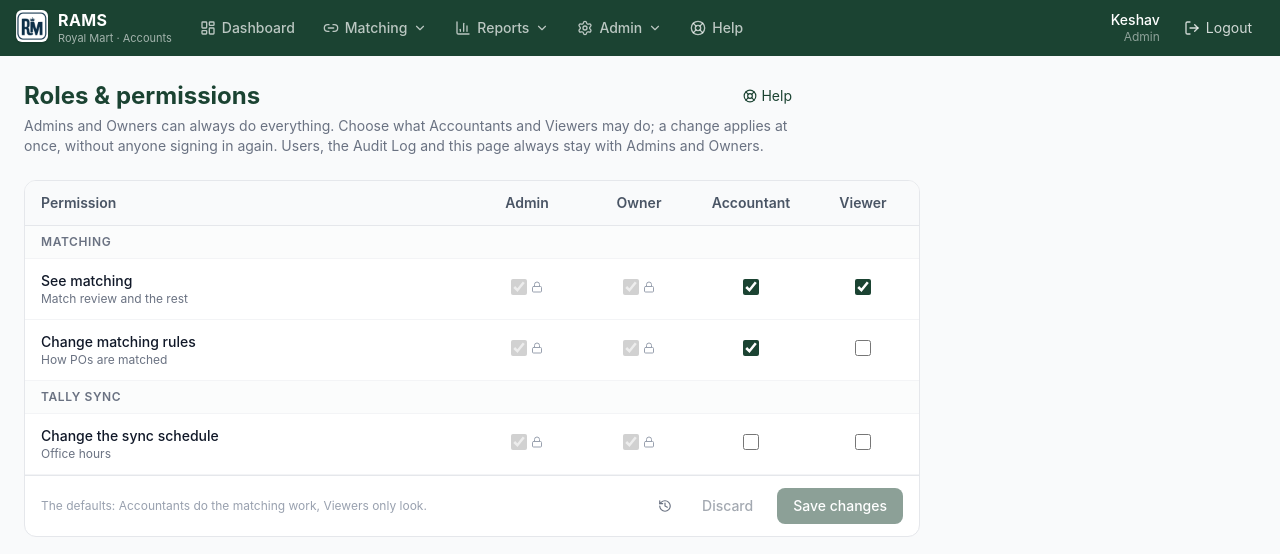
Roles & permissions › Admin and Owner are always ticked and locked; ticking a box and saving sends the new matrix
This screenshot has width=1280, height=554.
Expected: the text "Change the sync schedule" is shown, 41,427 -> 219,444
Expected: the checkbox named "Admin: See matching (always)" is disabled, 511,278 -> 527,294
Click the checkbox named "Accountant: Change the sync schedule".
click(751, 442)  # box 743,434 -> 759,450
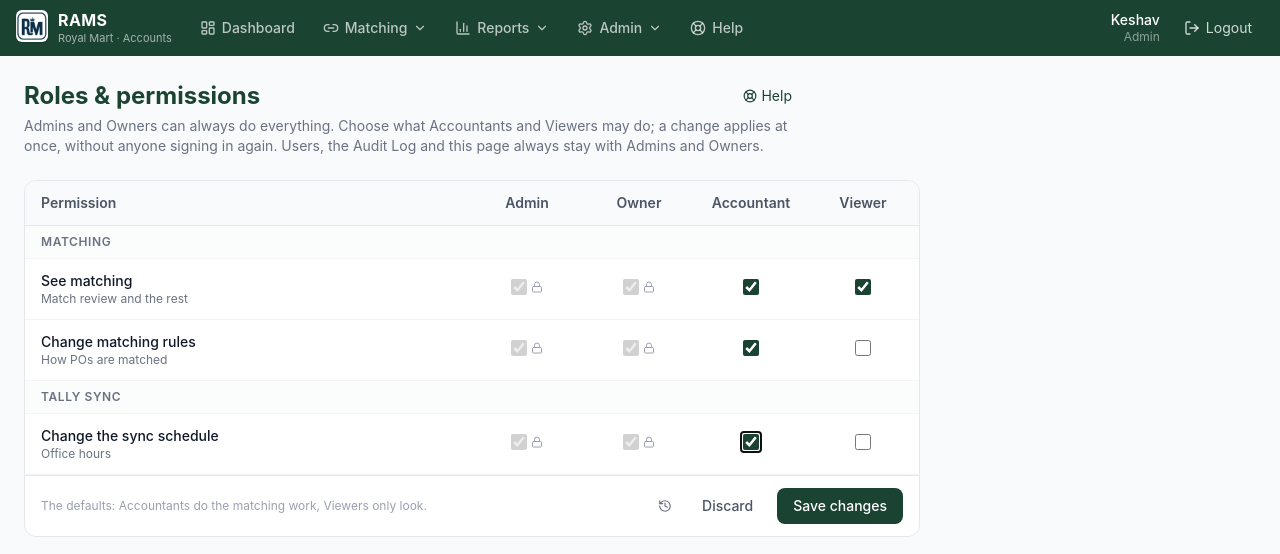
Click the checkbox named "Viewer: See matching".
click(863, 286)  # box 855,278 -> 871,294
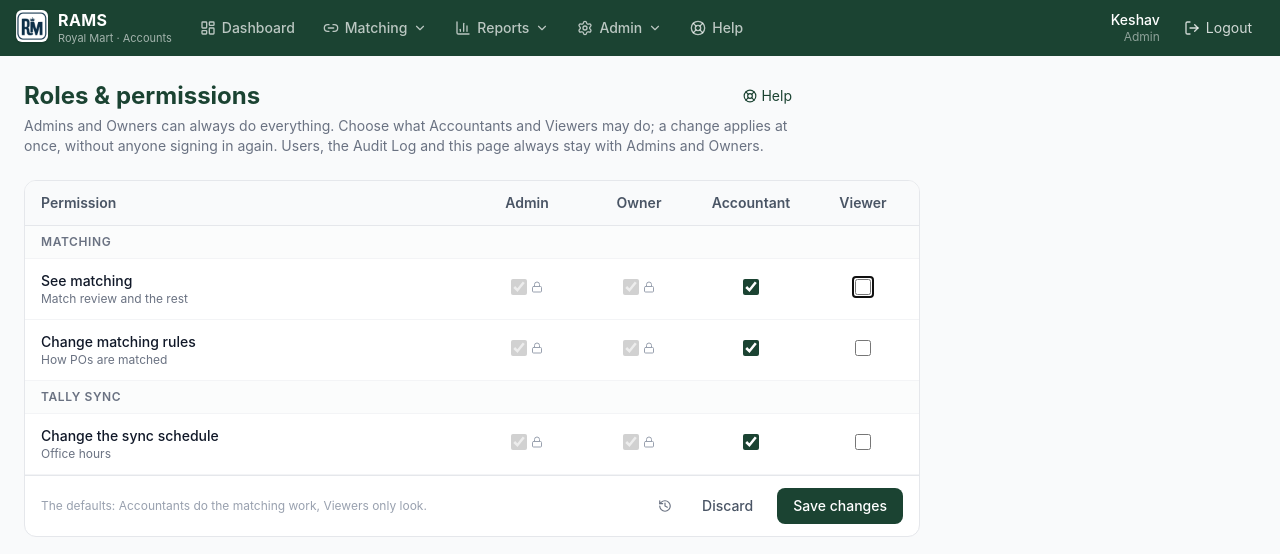
Click the button "Save changes".
click(840, 506)  # box 777,488 -> 903,524
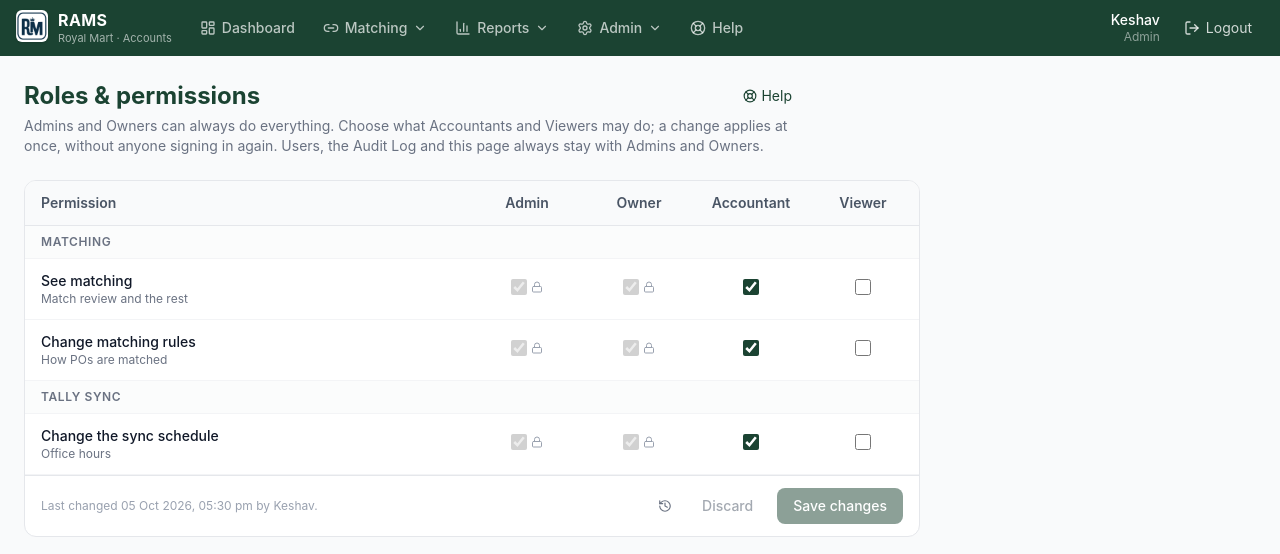
Now the text "Last changed 05 Oct 2026, 05:30 pm by Keshav." is shown, box 41,498 -> 318,514
